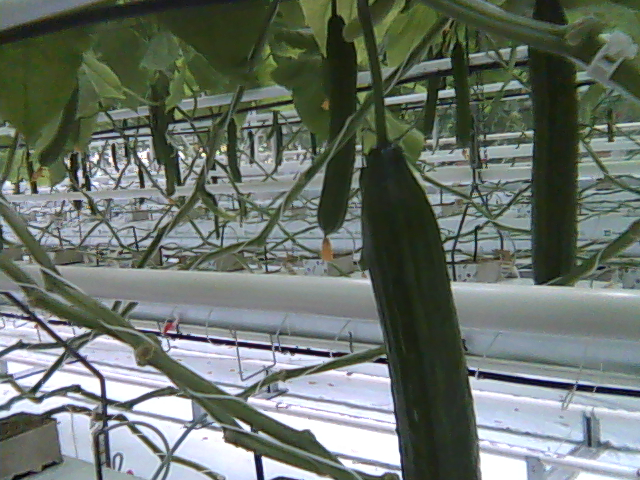concombre: (355, 137, 487, 480)
